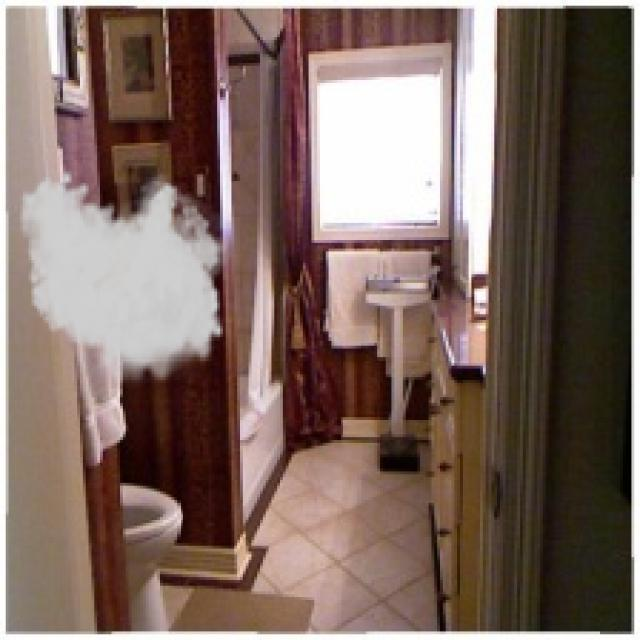Smoke: (17, 168, 237, 392)
